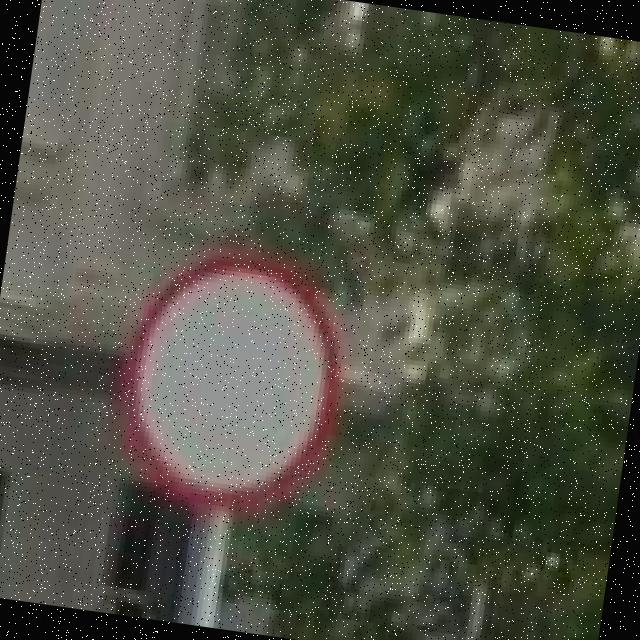Zakaz ruchu w obu kierunkach: (105, 240, 355, 520)
